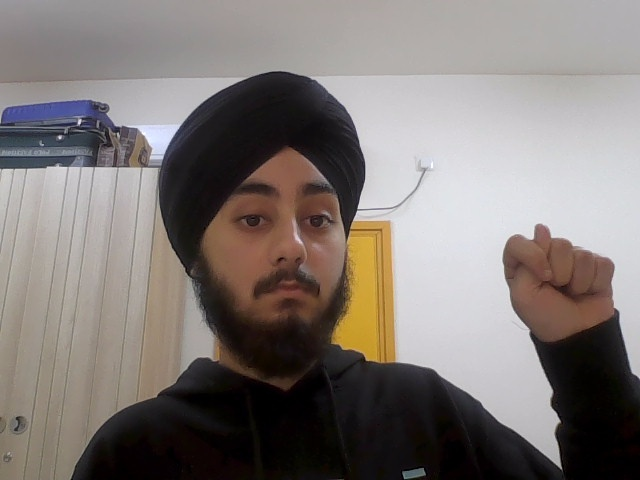Bathroom: (501, 221, 621, 339)
